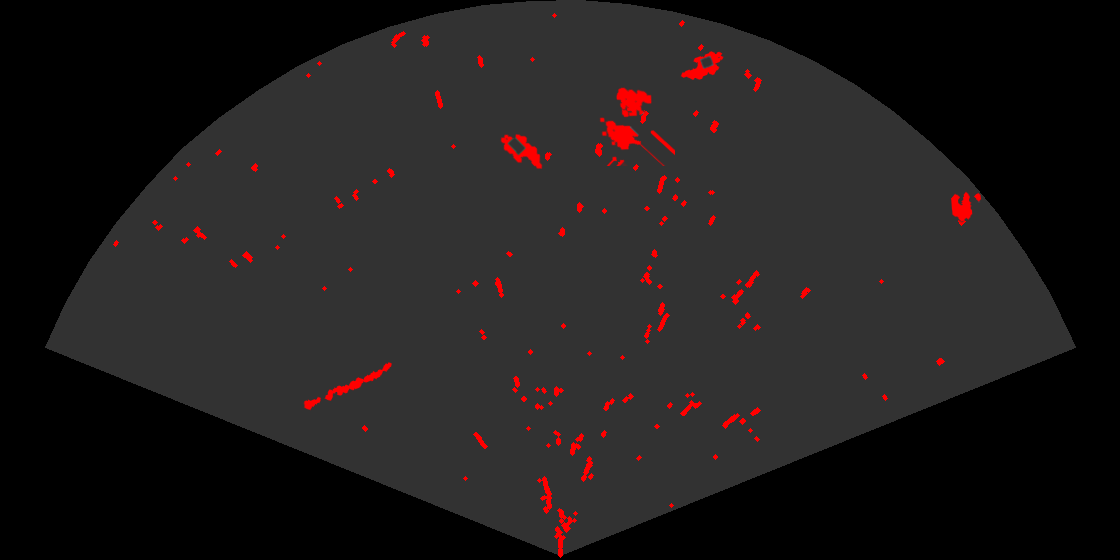AUV: (499, 132, 544, 171), (679, 50, 725, 82)
ball: (949, 190, 983, 223)
cage: (598, 86, 675, 166)
chain: (302, 361, 393, 411)
